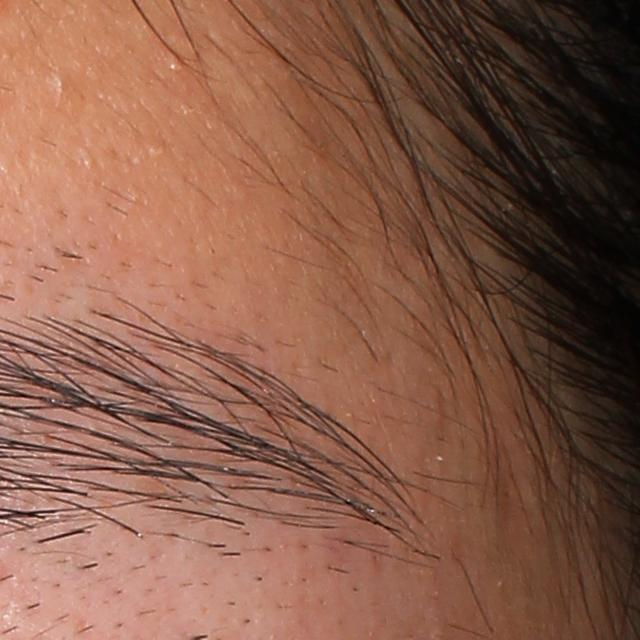comedo: (48, 68, 73, 104), (165, 53, 185, 76), (149, 136, 168, 157)
